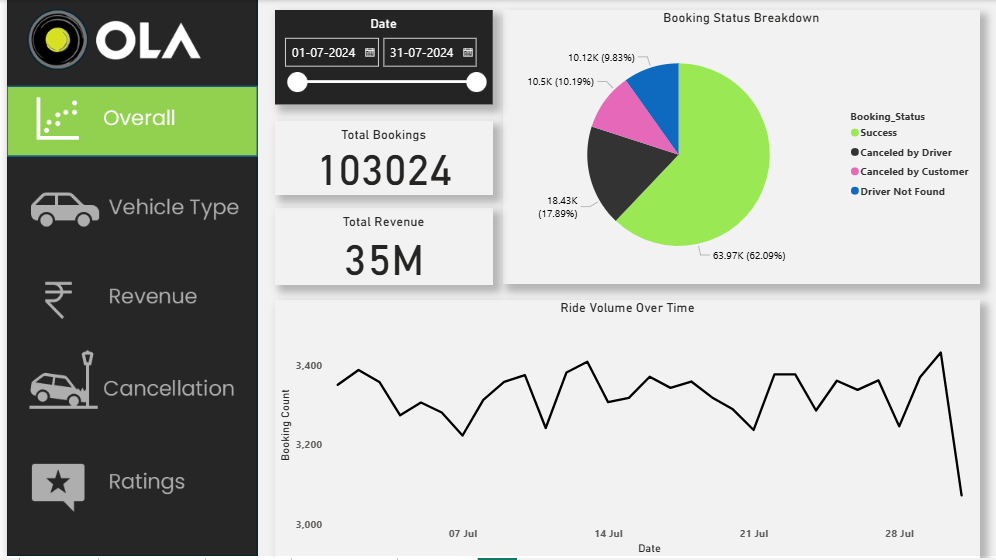

This screenshot's page, from the dashboard's own definition file:
{"tool":"powerbi","page":{"name":"Overall","canvas":[1280,720],"ordinal":0},"visuals":[{"type":"actionButton","box":[0,221.1,324.6,93.5],"z":0},{"type":"actionButton","box":[0,337.3,324.6,93.5],"z":1000},{"type":"actionButton","box":[0,449.3,324.6,93.5],"z":2000},{"type":"actionButton","box":[0,574,324.6,93.5],"z":3000},{"type":"pieChart","title":"Booking Status Breakdown","fields":{"Category":["Bookings.Booking_Status"],"Y":["CountNonNull(Bookings.Booking_Status)"]},"box":[640.6,12.8,615.1,354.3],"z":4000},{"type":"lineChart","title":"Ride Volume Over Time","fields":{"Category":["Bookings.Date"],"Y":["CountNonNull(Bookings.Booking_ID)"]},"box":[345.8,386.9,909.9,333.1],"z":5000},{"type":"slicer","title":"Date","fields":{"Values":["Bookings.Date"]},"box":[345.8,12.8,280.6,121.9],"z":6000},{"type":"card","title":"Total Bookings","fields":{"Values":["CountNonNull(Bookings.Booking_ID)"]},"box":[345.8,155.9,280.6,95],"z":7000},{"type":"card","title":"Total Revenue","fields":{"Values":["Sum(Bookings.Booking_Value)"]},"box":[345.8,267.9,280.6,99.2],"z":8000}]}

Visuals, with their boxes on the page's 1280x720 design canvas (x1, y1, x2, y2). These are canvas units, not pixel positions in the 996x560 screenshot, which may show the page scaled, cropped or inside an application window:
actionButton: <box>0,221,325,315</box>
actionButton: <box>0,337,325,431</box>
actionButton: <box>0,449,325,543</box>
actionButton: <box>0,574,325,668</box>
"Booking Status Breakdown" pieChart: <box>641,13,1256,367</box>
"Ride Volume Over Time" lineChart: <box>346,387,1256,720</box>
"Date" slicer: <box>346,13,626,135</box>
"Total Bookings" card: <box>346,156,626,251</box>
"Total Revenue" card: <box>346,268,626,367</box>
